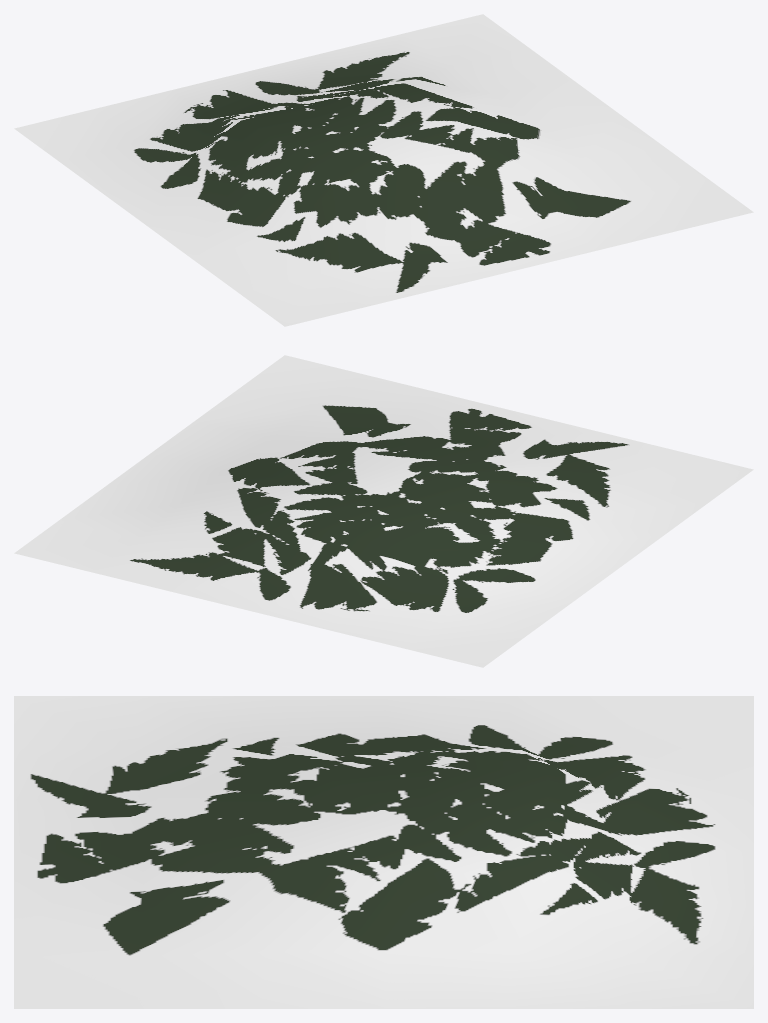
Rendered from Samabaia_Recortada.fbx.
3 renders of one model, top to bottom at view 1: azimuth 30°, elevation 25°; view 2: azimuth 150°, elevation 25°; view 3: azimuth 270°, elevation 25°, orthographic. The views are drawn at different scales.
Parts seen in each view (by area): view 1: Plane; view 2: Plane; view 3: Plane.
Part boxes in pixels (left/top/right/bottom): Plane: left=14, top=14, right=753, bottom=326; Plane: left=14, top=355, right=753, bottom=667; Plane: left=14, top=696, right=753, bottom=1008.
Size of the model in its own units: 42.66 by 2.08 by 42.66.
1 material, 1 textured.
